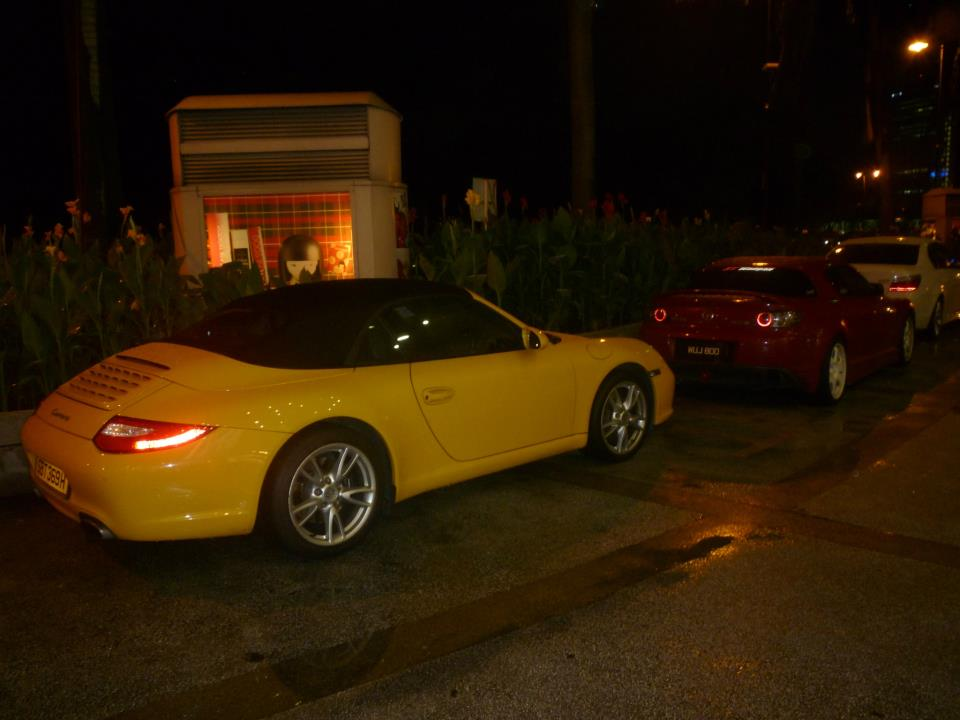car: (633, 248, 926, 411)
